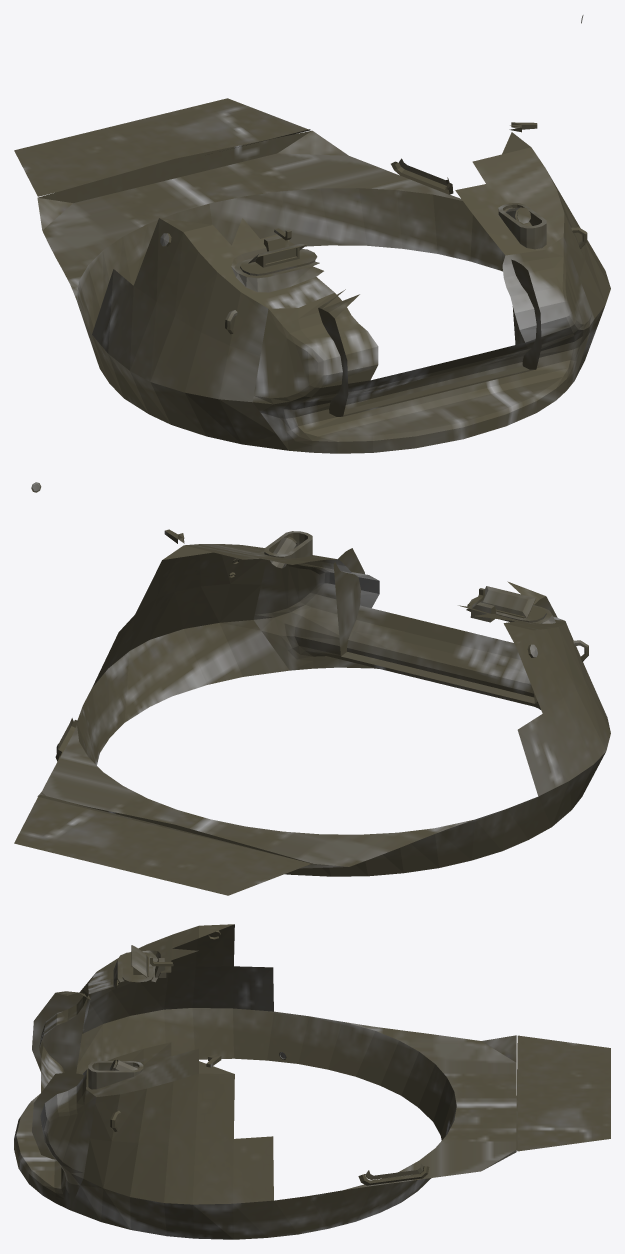
Rendered from chaffee_hull_m0.obj.
The picture shows the model from 3 angles, top to bottom: view 1: azimuth 30°, elevation 25°; view 2: azimuth 150°, elevation 25°; view 3: azimuth 270°, elevation 25°; orthographic projection. The views are drawn at different scales.
Parts seen in each view (by area): view 1: chaffee_hull_m0; view 2: chaffee_hull_m0; view 3: chaffee_hull_m0.
Boxes of the visible parts, x1,y1,x2,y2 form: chaffee_hull_m0: [14, 15, 610, 453]; chaffee_hull_m0: [14, 482, 610, 895]; chaffee_hull_m0: [14, 924, 610, 1239].
Size of the model in its own units: 2.1 by 0.9719 by 2.46.
1 material, 1 textured.
